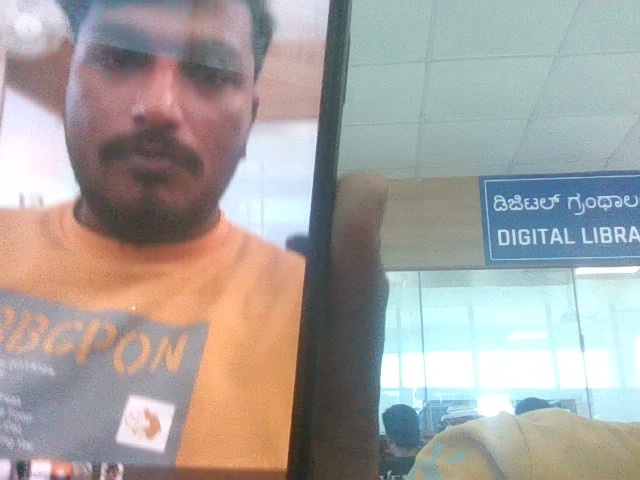fake: (36, 0, 291, 362)
